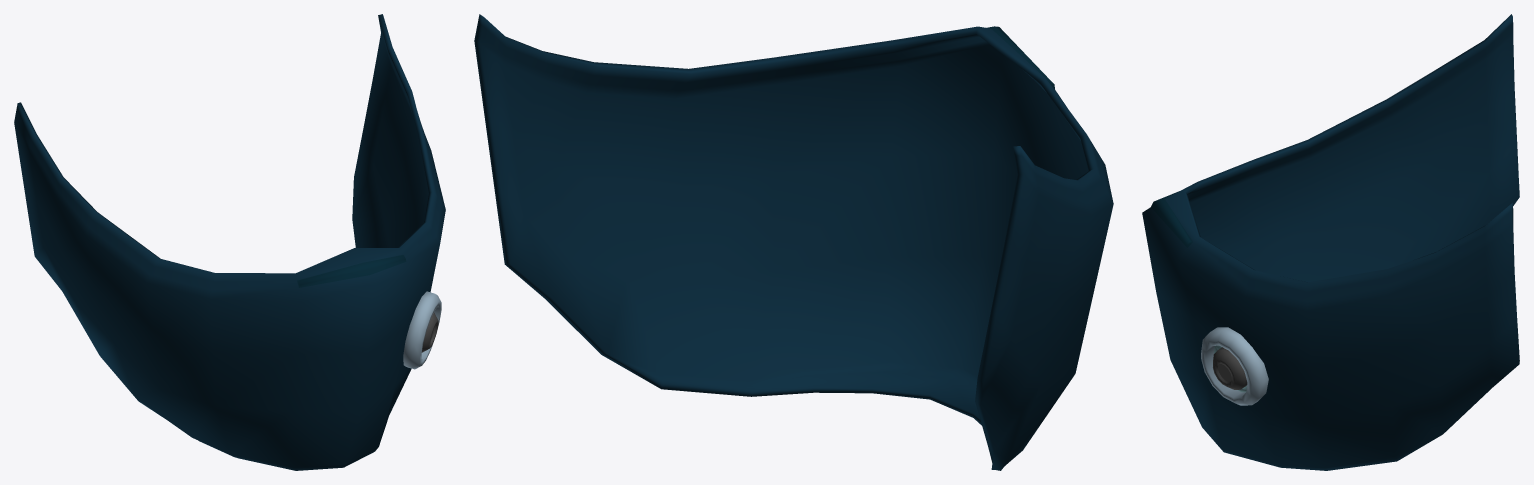
Rendered from Mask.fbx.
The picture shows the model from 3 angles, left to right: view 1: azimuth 30°, elevation 25°; view 2: azimuth 150°, elevation 25°; view 3: azimuth 270°, elevation 25°; orthographic projection. The views are drawn at different scales.
Parts seen in each view (by area): view 1: Plane; view 2: Plane; view 3: Plane.
Boxes of the visible parts, x1=… form: Plane: x1=14, y1=14, x2=445, y2=470; Plane: x1=474, y1=14, x2=1113, y2=470; Plane: x1=1142, y1=14, x2=1519, y2=470.
Bounding box in the file's own units: 22.93 × 18.1 × 18.97.
